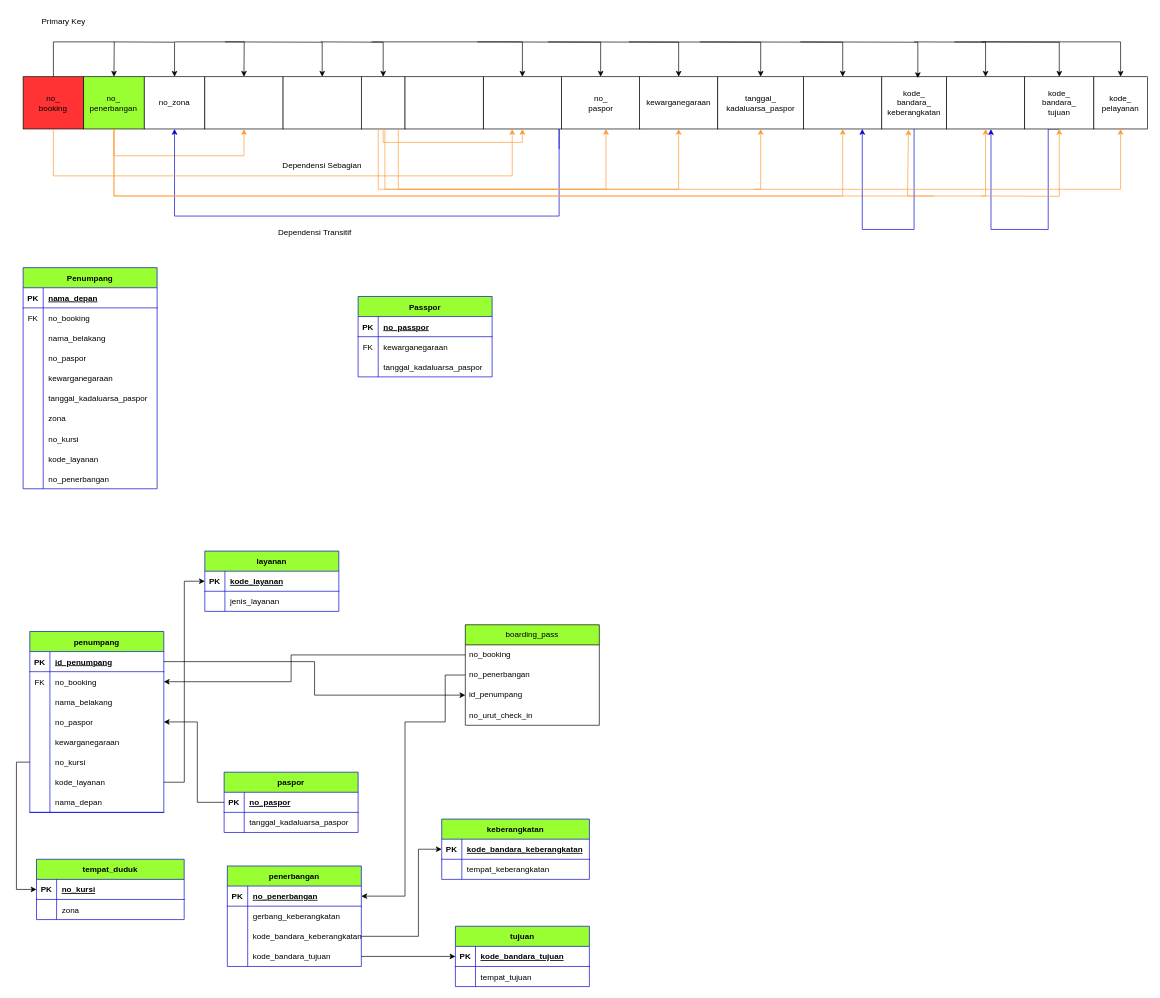
Image size: 1160x998. Some labels were removed from this diagram. Each missing label, with the centre of its shape:
"gerbang_ keberangkatan" goes at [243,102].
"nama_ belakang" goes at [443,102].
"nama_ depan" goes at [383,102].
"no_ kursi" goes at [522,102].
"no_ urut_ check_ in" goes at [321,102].
"tempat_ keberangkatan" goes at [842,102].
"tempat_ tujuan" goes at [985,102].
